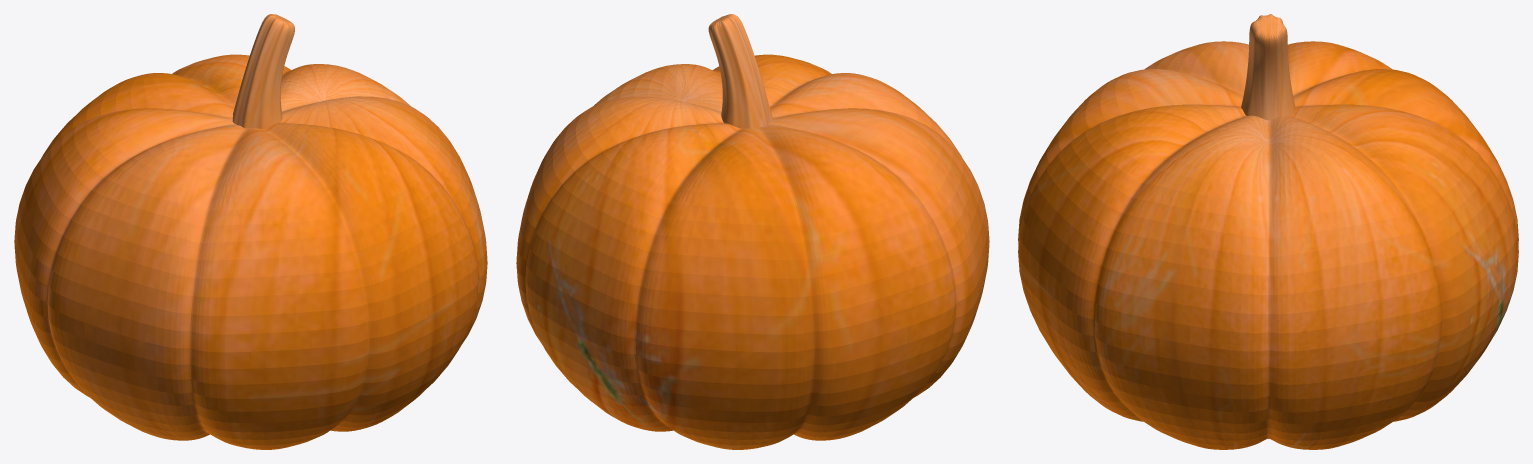
Rendered from 6_pumpkin.fbx.
3 views of the same model, side by side, from view 1: azimuth 30°, elevation 25°; view 2: azimuth 150°, elevation 25°; view 3: azimuth 270°, elevation 25° (orthographic). The views are drawn at different scales.
Parts seen in each view (by area): view 1: pumpkin; view 2: pumpkin; view 3: pumpkin.
Boxes of the visible parts, x1,y1,x2,y2 form: pumpkin: [14, 14, 487, 449]; pumpkin: [516, 14, 989, 449]; pumpkin: [1018, 14, 1518, 449].
Size of the model in its own units: 169 by 147 by 169.
Materials: 1 (1 with a texture image).
